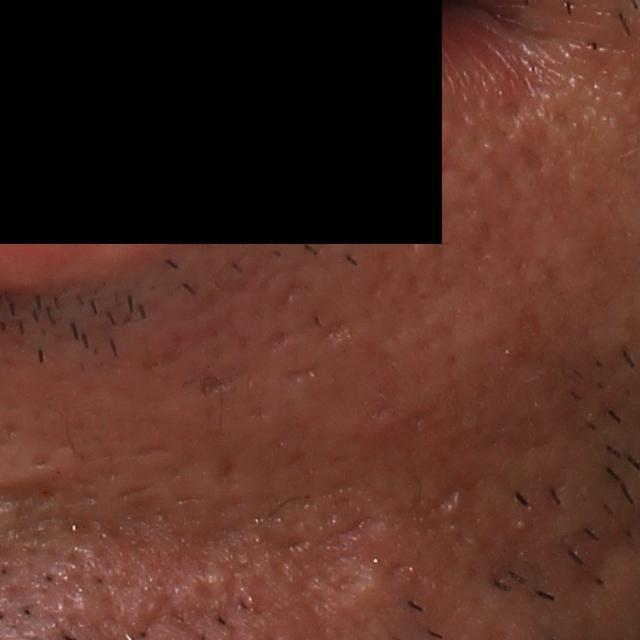hypertrophic_scar: (336, 566, 404, 617)
